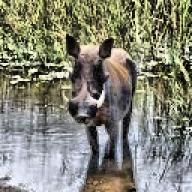boar: (63, 32, 138, 164)
